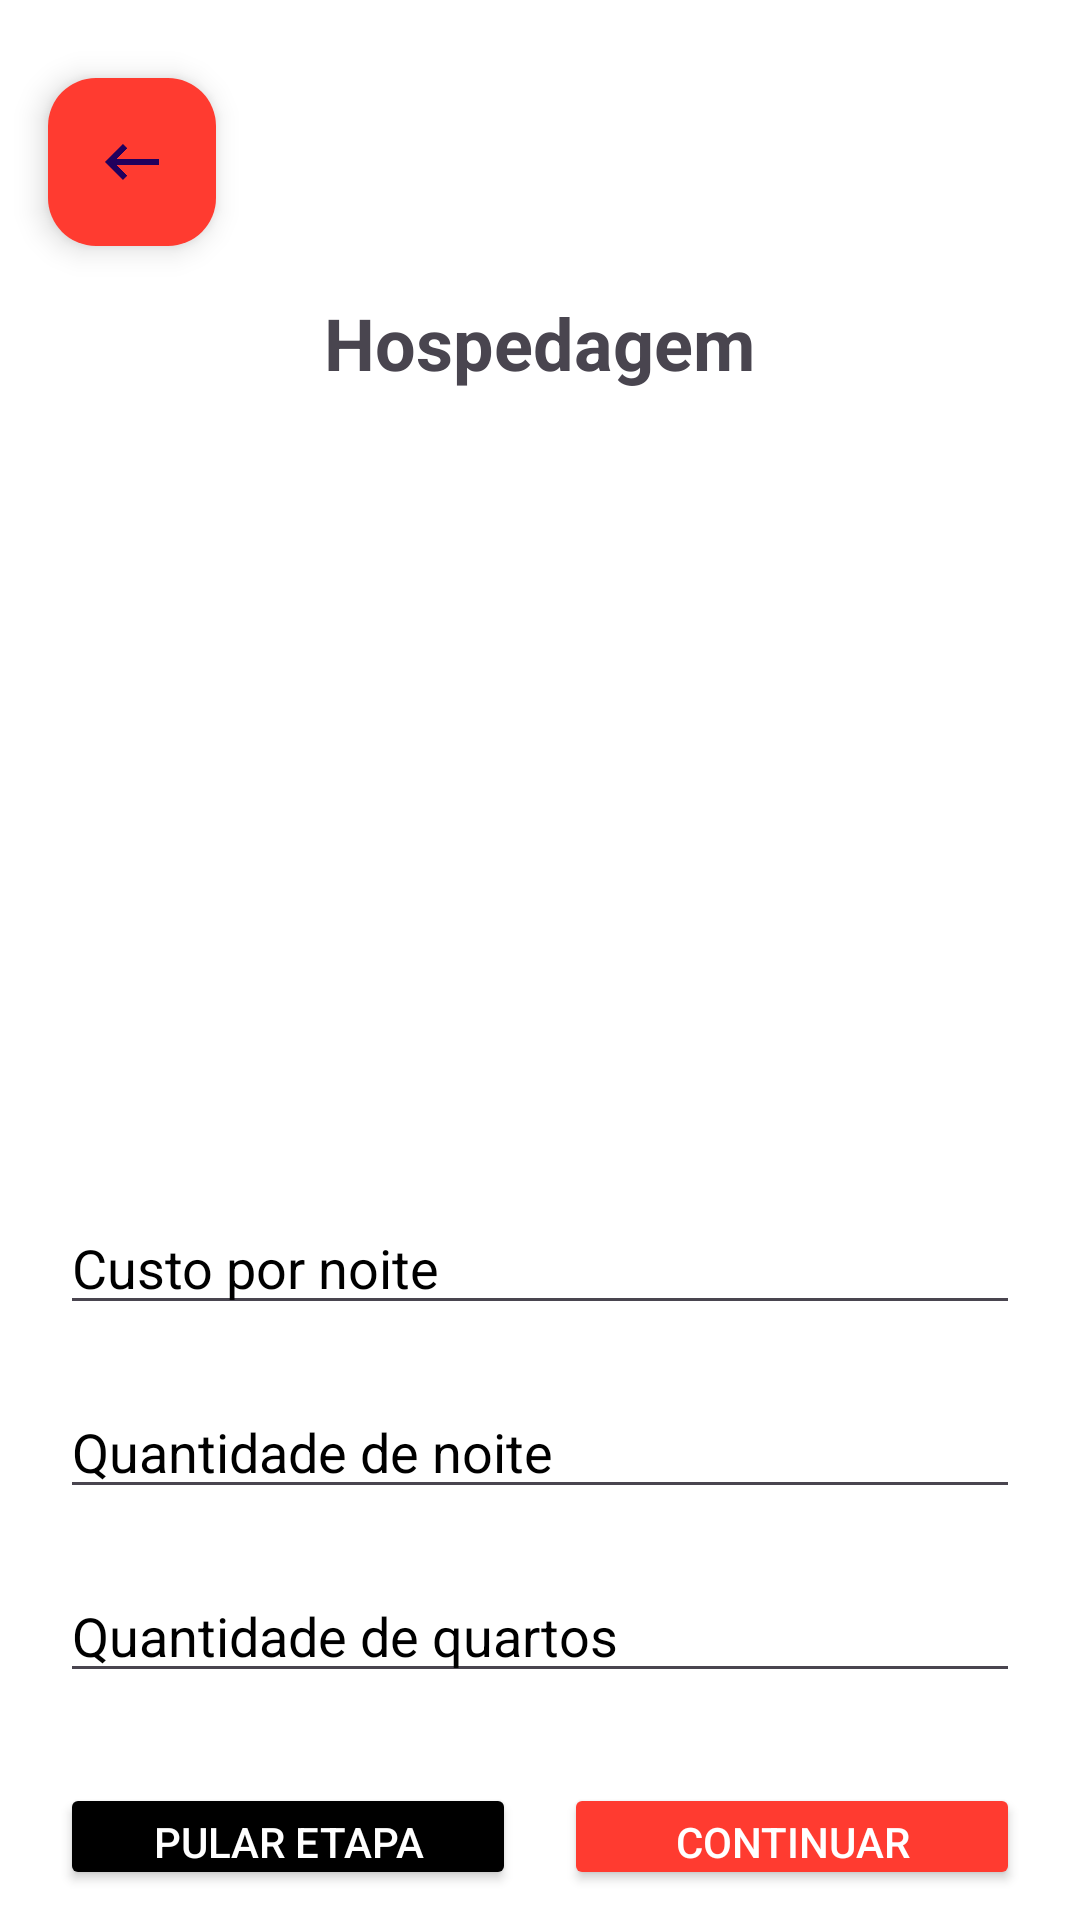

Icon click points for this 1080x1920 phone screenshot, format [x,y]:
back arrow: [132,162]
